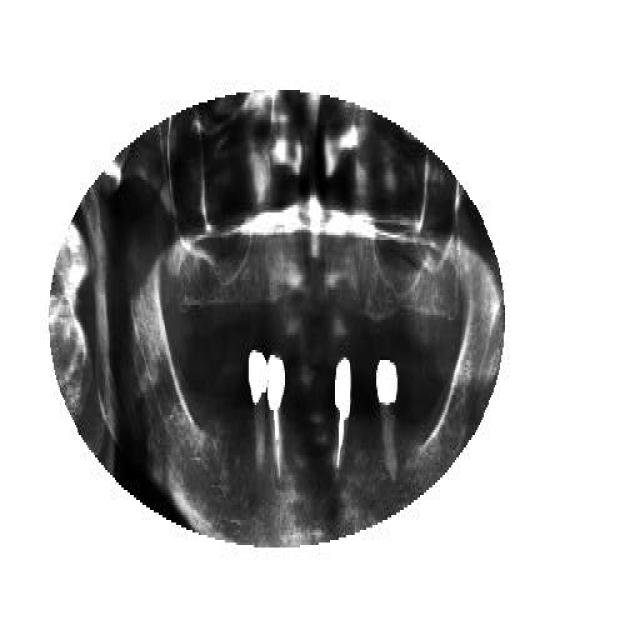Fillings: (375, 355, 400, 485), (248, 348, 268, 480)
Implant: (266, 352, 288, 482), (334, 355, 355, 480)
